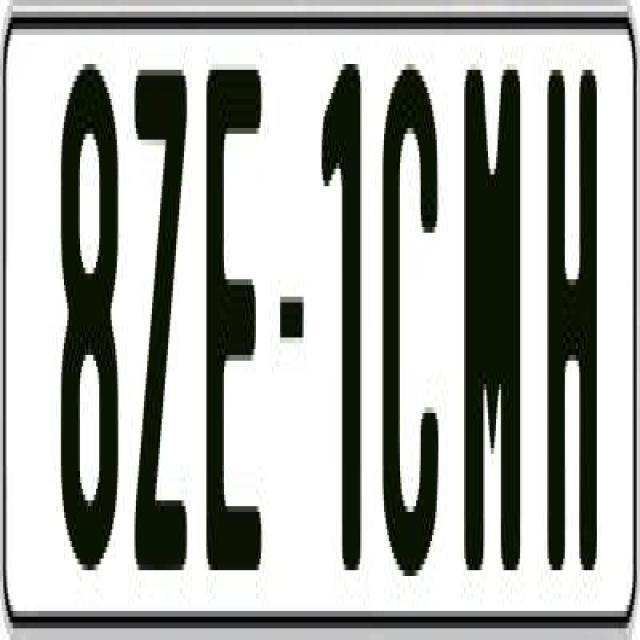1: (320, 47, 368, 570)
8: (61, 58, 125, 564)
C: (379, 70, 443, 594)
E: (205, 58, 261, 564)
H: (547, 70, 597, 588)
M: (464, 58, 525, 594)
Z: (131, 58, 187, 564)
